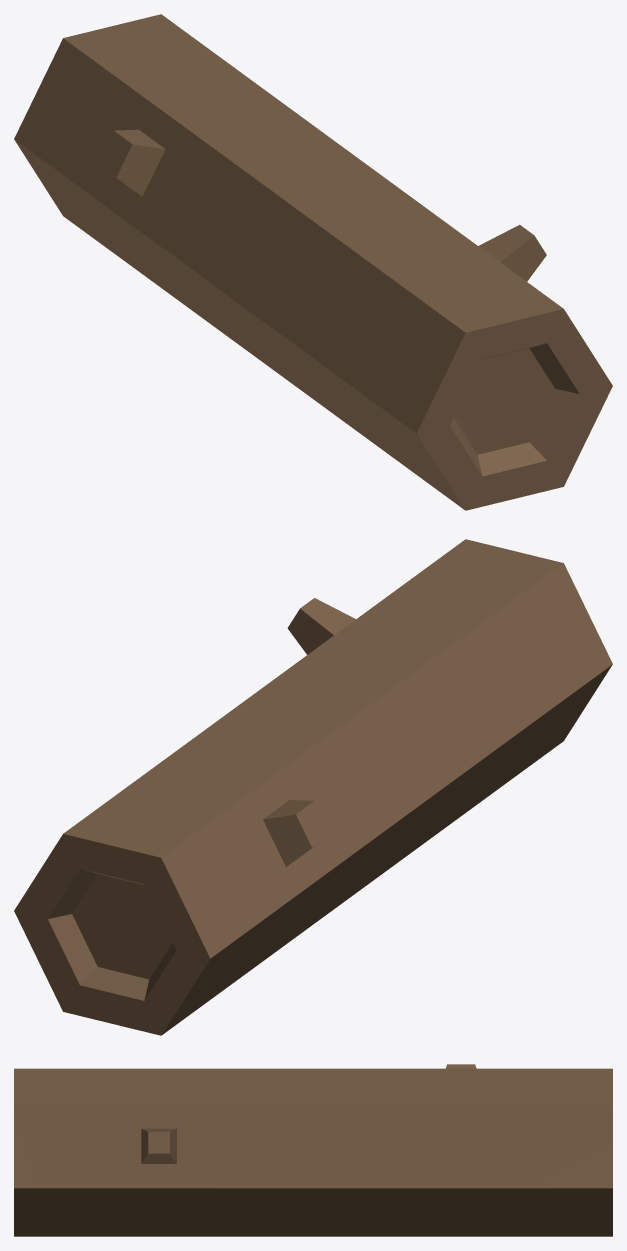
Rendered from log.glb.
The picture shows the model from 3 angles, top to bottom: view 1: azimuth 30°, elevation 25°; view 2: azimuth 150°, elevation 25°; view 3: azimuth 270°, elevation 25°; orthographic projection. The views are drawn at different scales.
Visible parts, largest first — view 1: log; view 2: log; view 3: log.
Part boxes in pixels (bbox=[...]): log: bbox=[14, 14, 612, 510]; log: bbox=[14, 539, 612, 1035]; log: bbox=[14, 1064, 612, 1236].
Size of the model in its own units: 0.234 by 0.1732 by 0.71.
